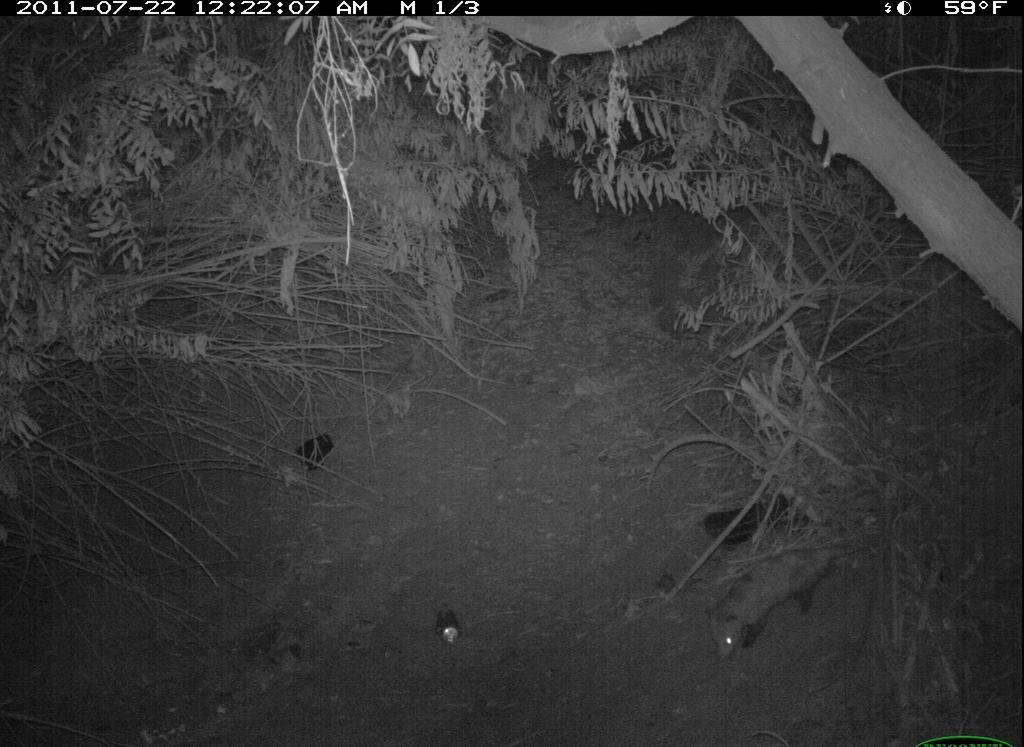opossum: (699, 530, 891, 670)
